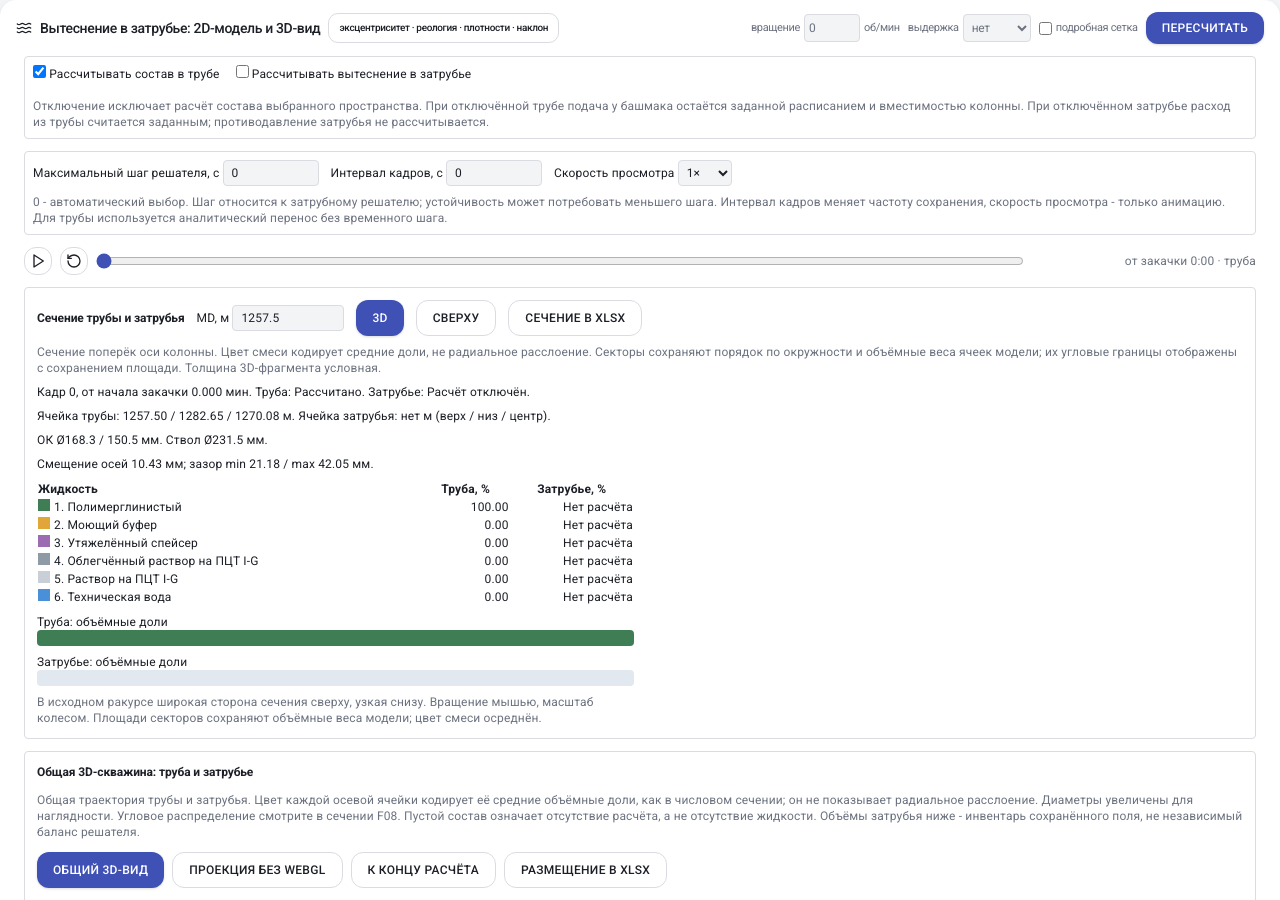
Test: applies playback speed to the common timer even in pipe-only mode
The image size is (1280, 900).
Later steps or results of the test are not shown.
Select "2×" in the dropdown labelled "Скорость просмотра" at (705, 173), box [678, 160, 732, 186]
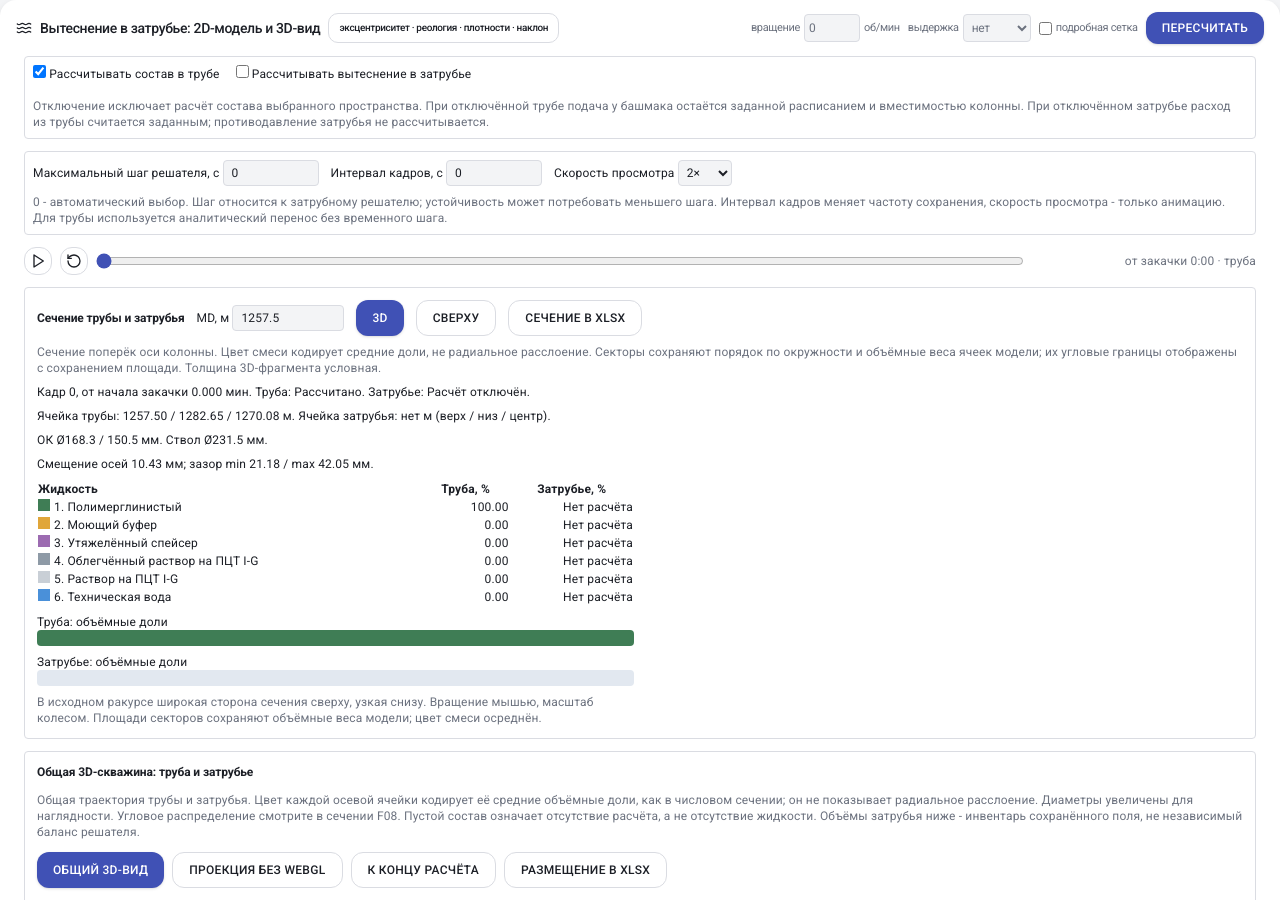
Click the button named "Воспроизвести".
click(38, 261)  # box [24, 247, 52, 275]
Wait 45 ms
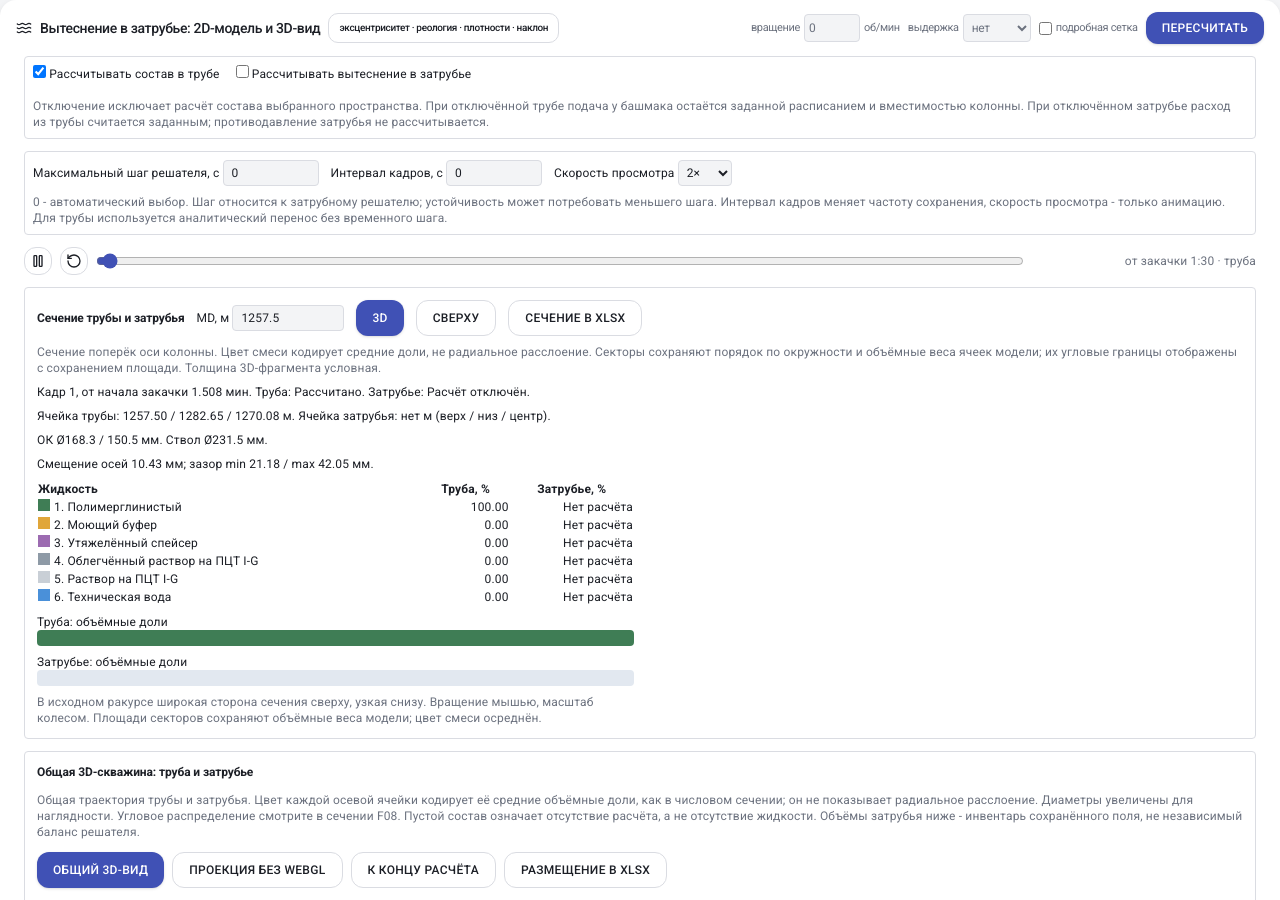
Now the slider named "Время" holds "1", box [96, 253, 1024, 269]
